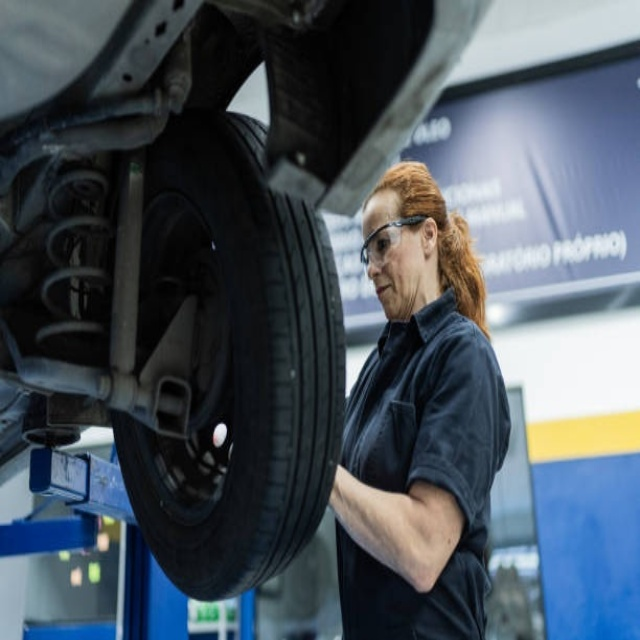Gafas: (360, 216, 428, 266)
Sin_mascara: (371, 274, 401, 313)
